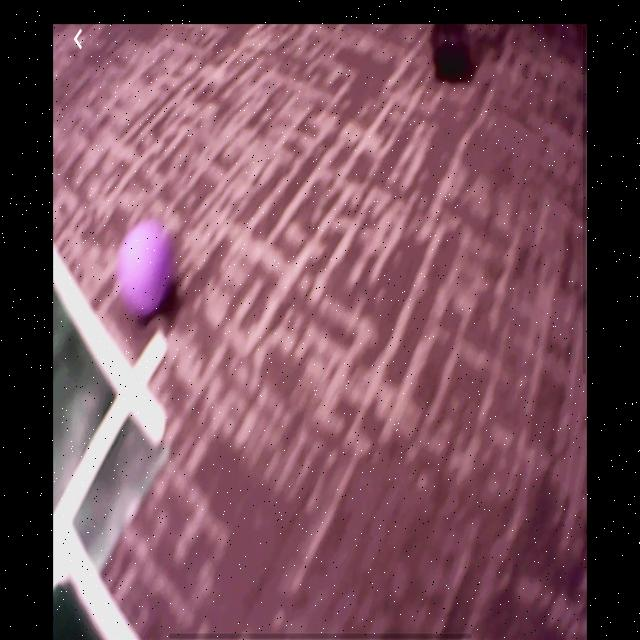ball: (116, 218, 175, 321)
